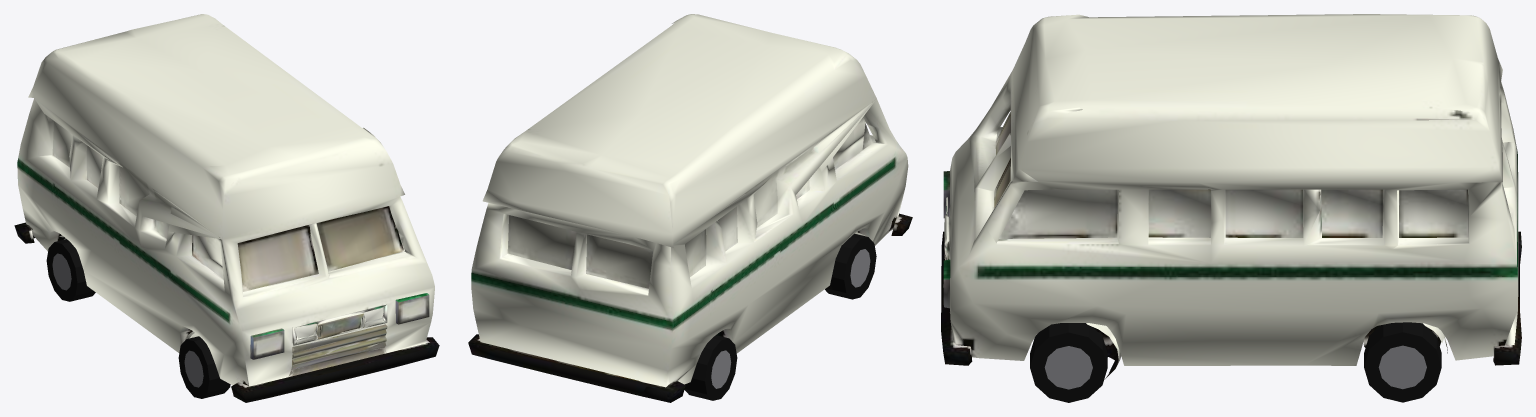
The model's file is danfo-white-green.glb.
3 views of the same model, side by side, from view 1: azimuth 30°, elevation 25°; view 2: azimuth 150°, elevation 25°; view 3: azimuth 270°, elevation 25° (orthographic). The views are drawn at different scales.
Parts seen in each view (by area): view 1: danfo, wheel_fr, wheel_rr; view 2: danfo, wheel_fr, wheel_rr; view 3: danfo, wheel_rl, wheel_fl.
Part boxes in pixels (bbox=[...]): danfo: bbox=[14, 14, 439, 402]; wheel_fr: bbox=[178, 336, 230, 398]; wheel_rr: bbox=[46, 239, 95, 301]; danfo: bbox=[468, 14, 912, 402]; wheel_fr: bbox=[825, 233, 876, 299]; wheel_rr: bbox=[684, 335, 737, 400]; danfo: bbox=[941, 14, 1521, 378]; wheel_rl: bbox=[1364, 322, 1441, 402]; wheel_fl: bbox=[1030, 323, 1107, 402].
Bounding box in the file's own units: 2.49 × 2.67 × 4.94.
Materials: 1 (1 with a texture image).
